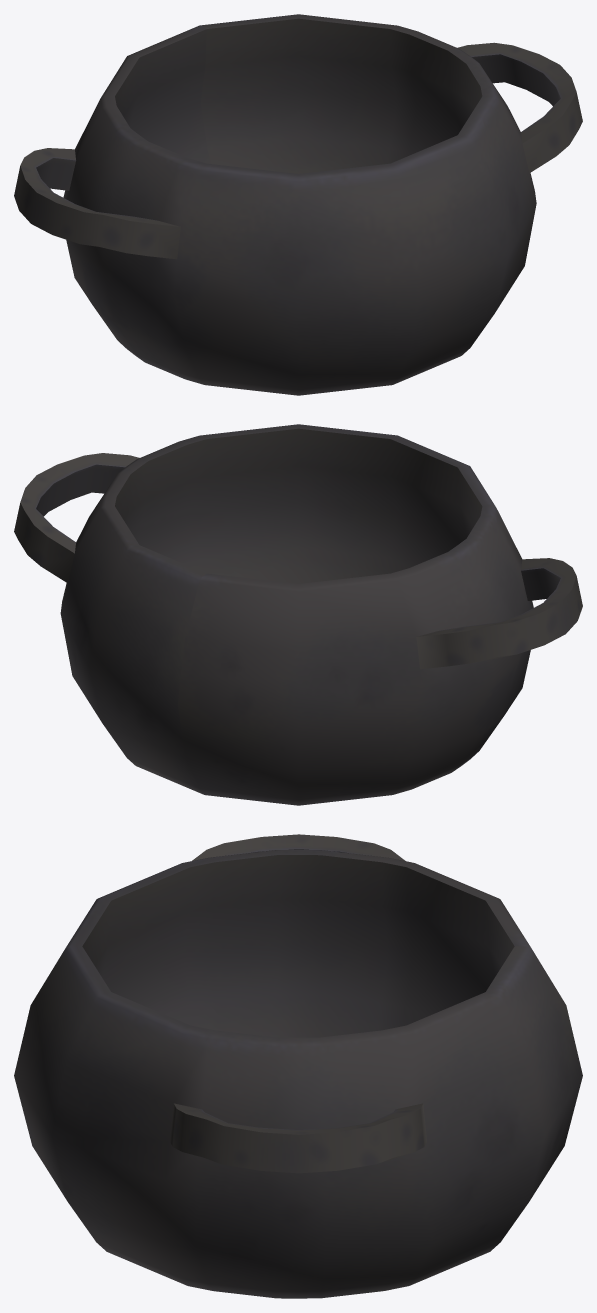
Rendered from Prop_CookingPot.fbx.
3 renders of one model, top to bottom at view 1: azimuth 30°, elevation 25°; view 2: azimuth 150°, elevation 25°; view 3: azimuth 270°, elevation 25°, orthographic. The views are drawn at different scales.
Visible parts, largest first — view 1: pot; view 2: pot; view 3: pot.
Part boxes in pixels (x1,y1,x2,y2): pot: [14, 14, 582, 395]; pot: [14, 424, 582, 805]; pot: [14, 834, 582, 1298].
Size of the model in its own units: 129 by 50.59 by 101.
